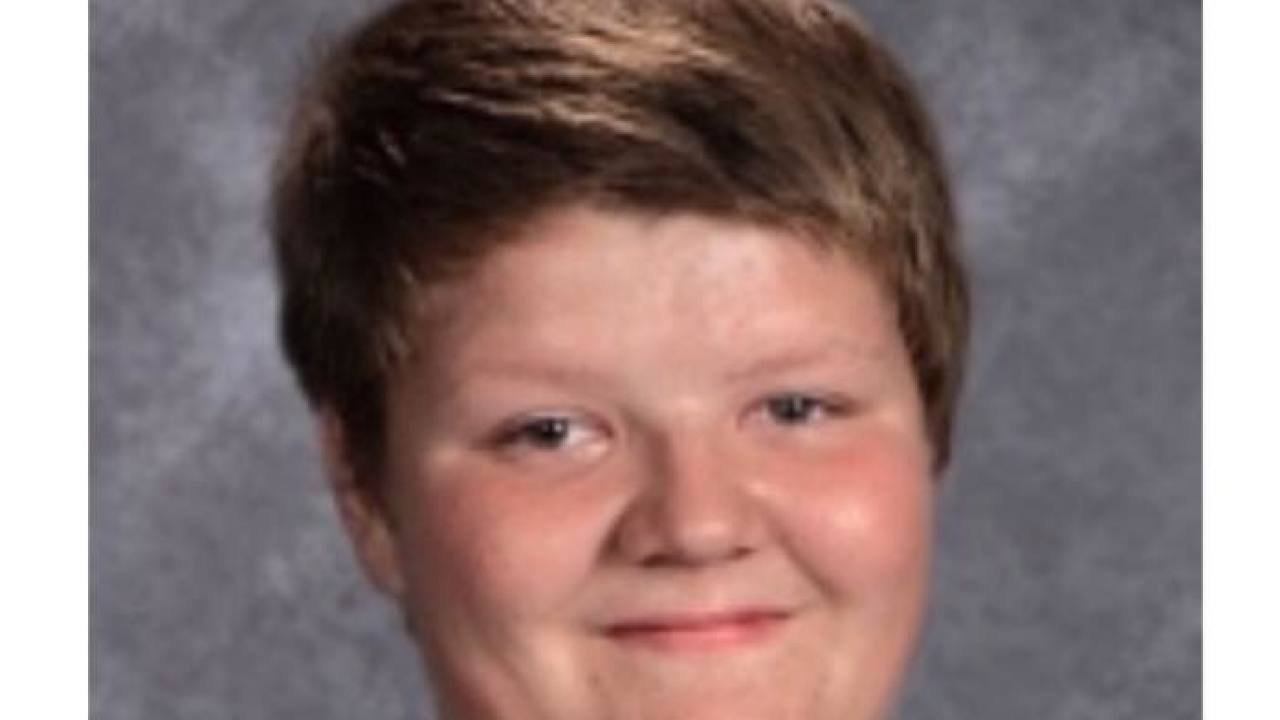noMask: (261, 7, 989, 720)
